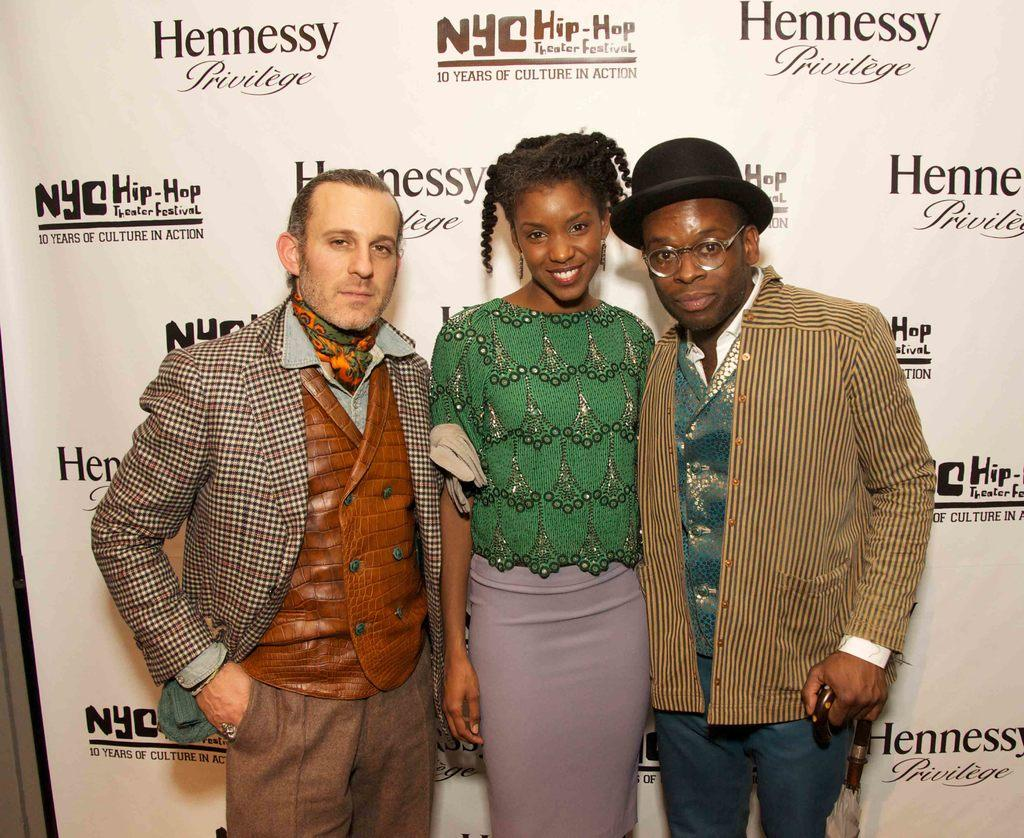Hat: (606, 139, 774, 253)
